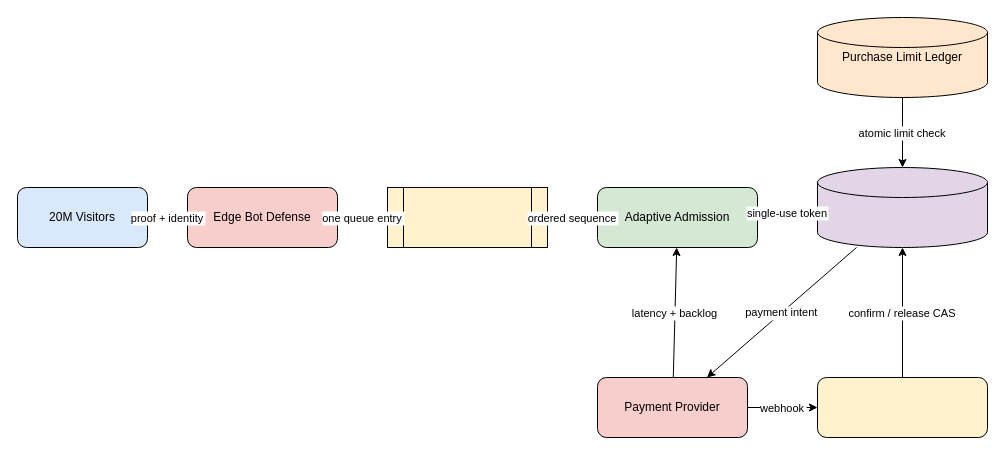
Some shapes in this 1005 by 455 pixel diagram are drawn without their labels. The box of each missing label's shape, as (x1, y1, x2, y2) in pixels:
Durable Sale Queue: (386, 186, 548, 248)
Expiry / Refund Saga: (816, 376, 988, 438)
Sale Inventory Leader: (816, 166, 988, 248)
